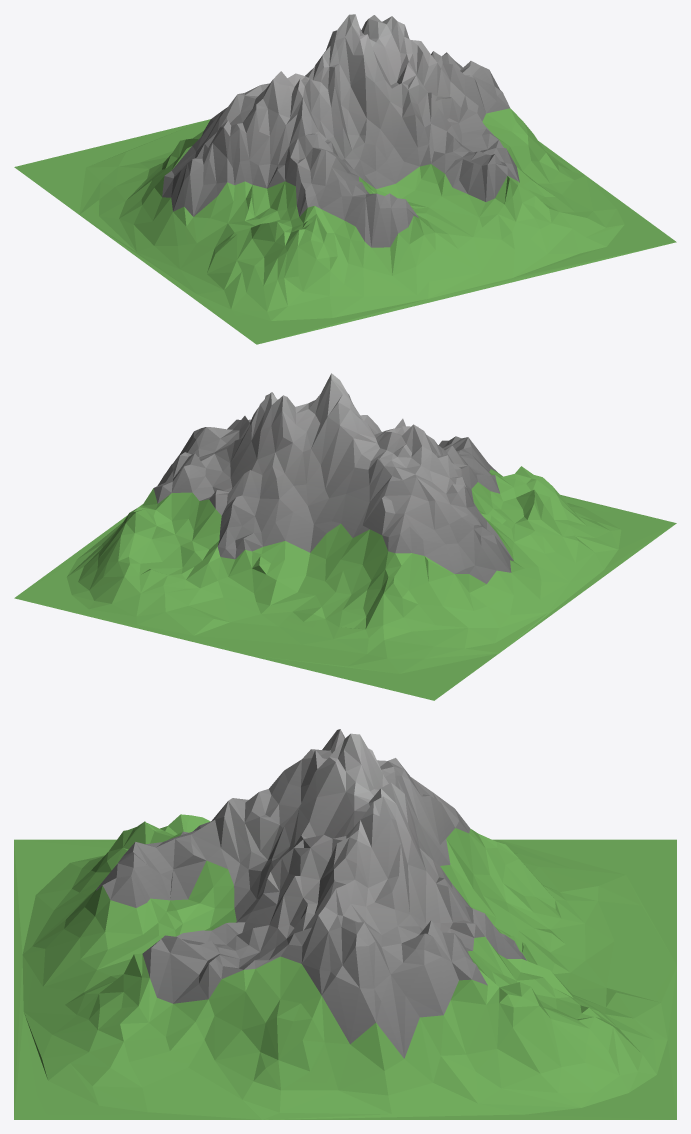
Rendered from SM_Nature_Landscape_01.fbx.
3 renders of one model, top to bottom at view 1: azimuth 30°, elevation 25°; view 2: azimuth 150°, elevation 25°; view 3: azimuth 270°, elevation 25°, orthographic. The views are drawn at different scales.
Parts seen in each view (by area): view 1: SM_Nature_Landscape_01; view 2: SM_Nature_Landscape_01; view 3: SM_Nature_Landscape_01.
Part boxes in pixels (x1,y1,x2,y2): SM_Nature_Landscape_01: (14,14,676,344); SM_Nature_Landscape_01: (14,373,676,700); SM_Nature_Landscape_01: (14,729,676,1119).
Size of the model in its own units: 100 by 42.33 by 100.
